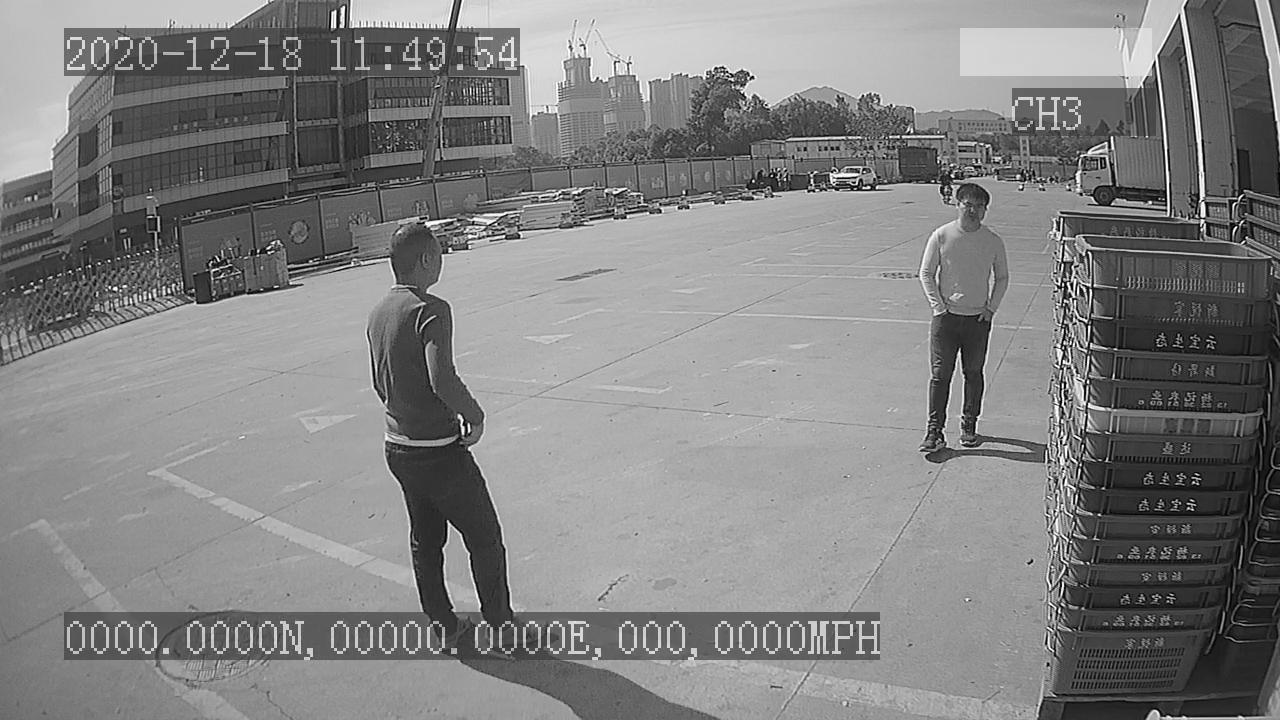person: (909, 183, 1015, 460)
